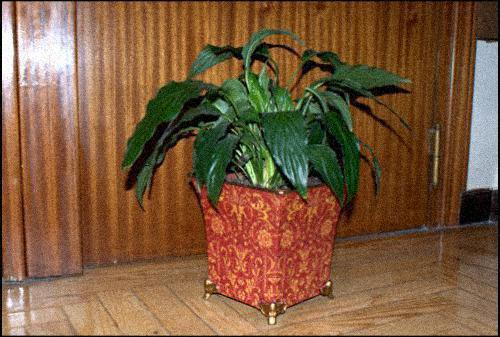Matera: (106, 6, 419, 321)
